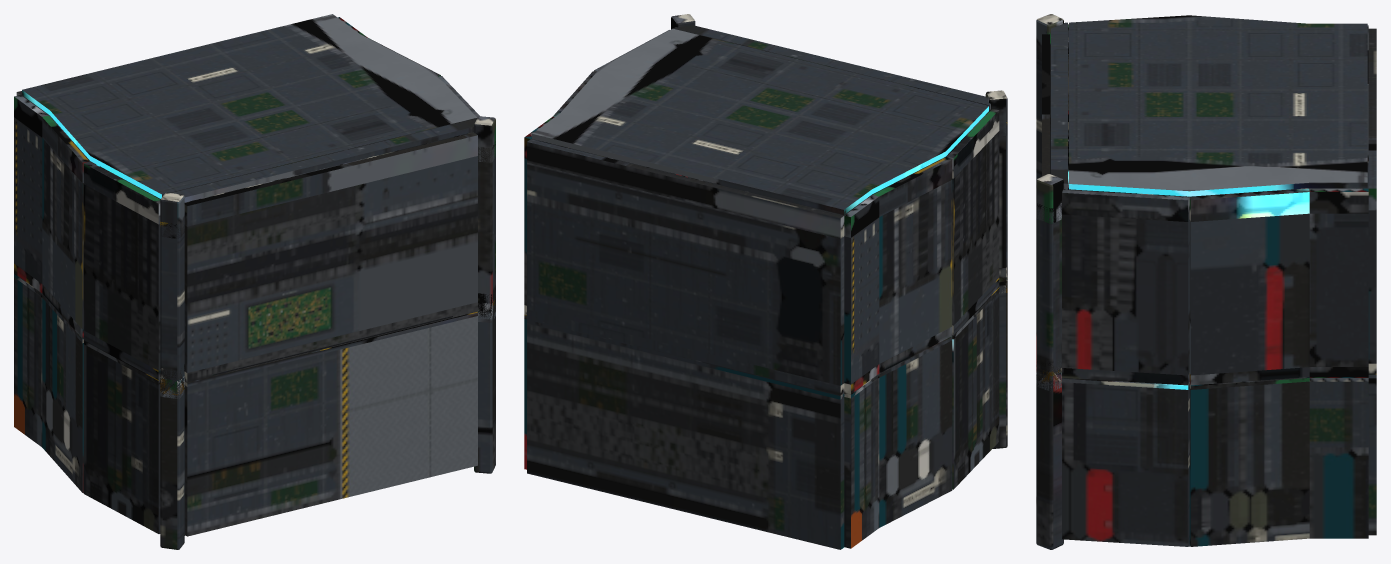
The model's file is cockpit_panorama.gltf.
3 renders of one model, left to right at view 1: azimuth 30°, elevation 25°; view 2: azimuth 150°, elevation 25°; view 3: azimuth 270°, elevation 25°, orthographic. The views are drawn at different scales.
Visible parts, largest first — view 1: pod_cabin, INNER_upper_1_cabin, INNER_lower_1_cabin, CONSOLE_front_front; view 2: pod_cabin, INNER_upper_1_cabin; view 3: pod_cabin, INNER_upper_1_cabin.
Part boxes in pixels (x1,y1,x2,y2): pod_cabin: [14, 14, 495, 549]; INNER_upper_1_cabin: [162, 118, 477, 383]; INNER_lower_1_cabin: [184, 312, 477, 536]; CONSOLE_front_front: [212, 315, 452, 375]; pod_cabin: [524, 14, 1007, 549]; INNER_upper_1_cabin: [673, 25, 990, 180]; pod_cabin: [1036, 14, 1376, 549]; INNER_upper_1_cabin: [1042, 22, 1075, 189].
Size of the model in its own units: 2.18 by 2.03 by 1.71.
9 materials, 8 textured.
